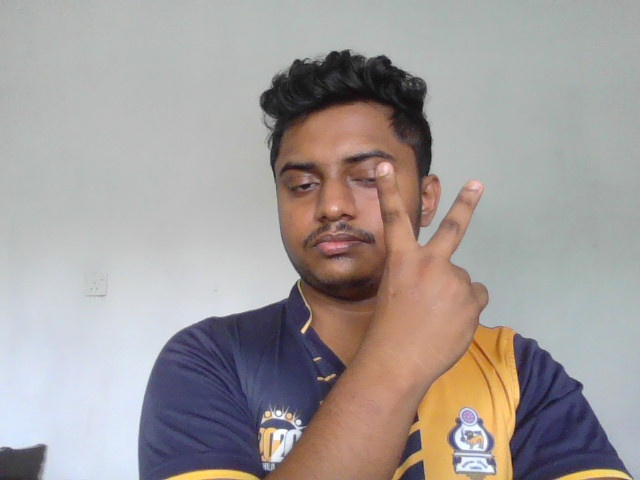See You: (368, 161, 492, 383)
